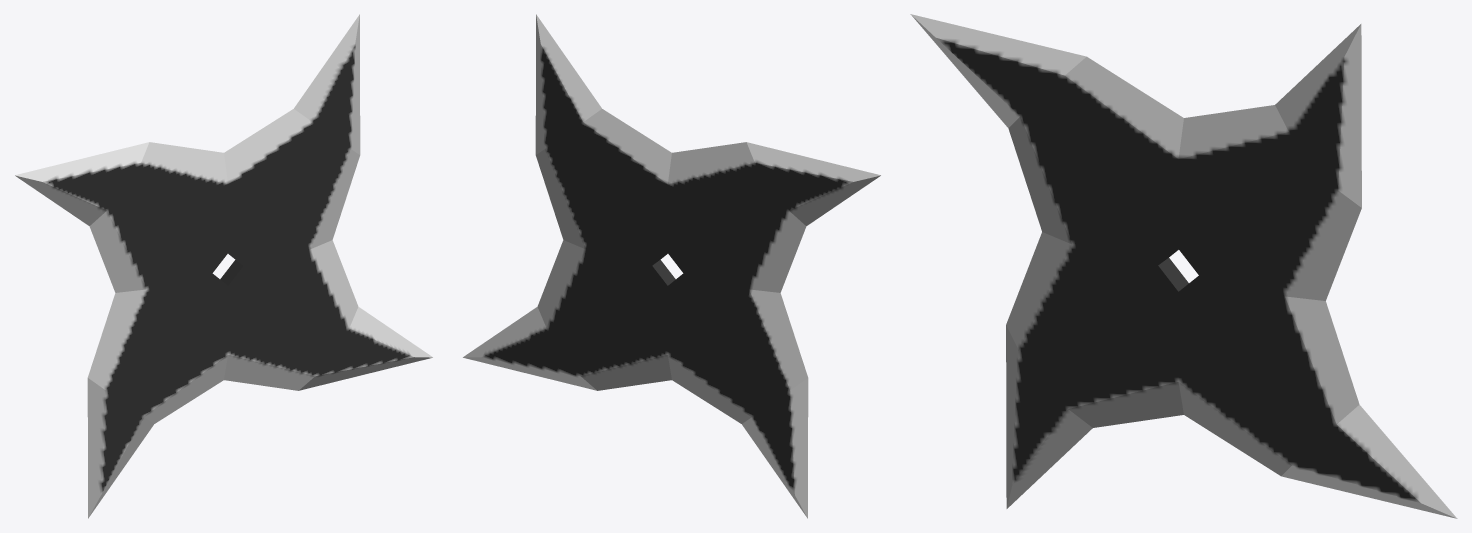
The model's file is syuriken2.fbx.
The picture shows the model from 3 angles, left to right: view 1: azimuth 30°, elevation 25°; view 2: azimuth 150°, elevation 25°; view 3: azimuth 330°, elevation 25°; orthographic projection. The views are drawn at different scales.
Visible parts, largest first — view 1: syuriken2; view 2: syuriken2; view 3: syuriken2.
Boxes of the visible parts, box(x1,y1,x2,y2) form: syuriken2: box(15, 14, 432, 518); syuriken2: box(463, 14, 880, 518); syuriken2: box(910, 14, 1457, 518).
Bounding box in the file's own units: 0.1998 × 0.1998 × 0.0069.
